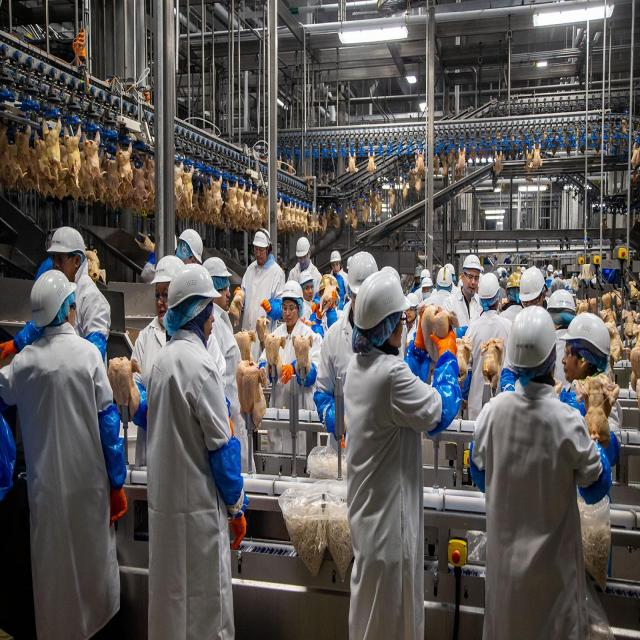Safety-Helmet: (352, 265, 413, 328), (505, 308, 557, 367), (28, 268, 77, 326), (167, 263, 220, 306), (562, 309, 610, 354), (46, 223, 88, 256), (150, 250, 188, 286), (176, 226, 204, 259), (520, 263, 544, 300), (478, 270, 499, 298), (281, 277, 304, 301), (252, 225, 272, 249), (462, 252, 484, 272), (295, 233, 311, 256), (330, 248, 342, 262)
